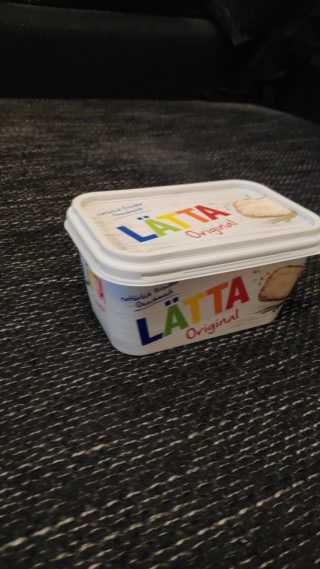laetta: (63, 177, 320, 357)
